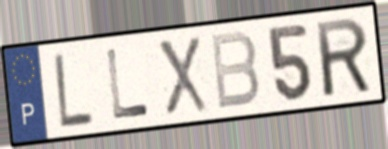5: (264, 22, 314, 104)
B: (208, 28, 262, 112)
L: (103, 46, 152, 123), (51, 50, 96, 129)
R: (313, 15, 375, 101)
X: (154, 34, 210, 118)
